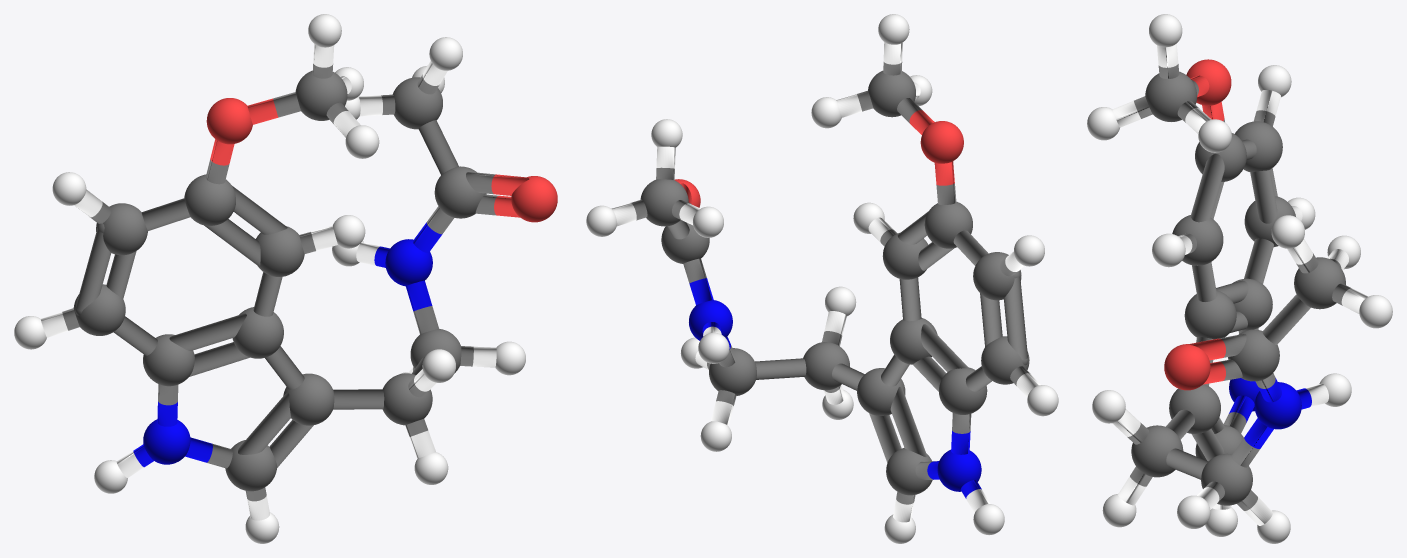
Rendered from melatonin.glb.
3 views of the same model, side by side, from view 1: azimuth 30°, elevation 25°; view 2: azimuth 150°, elevation 25°; view 3: azimuth 270°, elevation 25° (orthographic). The views are drawn at different scales.
Parts seen in each view (by area): view 1: melatonin; view 2: melatonin; view 3: melatonin.
Boxes of the visible parts, <box> form: melatonin: <box>14,14,557,543</box>; melatonin: <box>586,14,1058,543</box>; melatonin: <box>1087,14,1392,543</box>.
Size of the model in its own units: 8.35 by 8.91 by 4.6.
